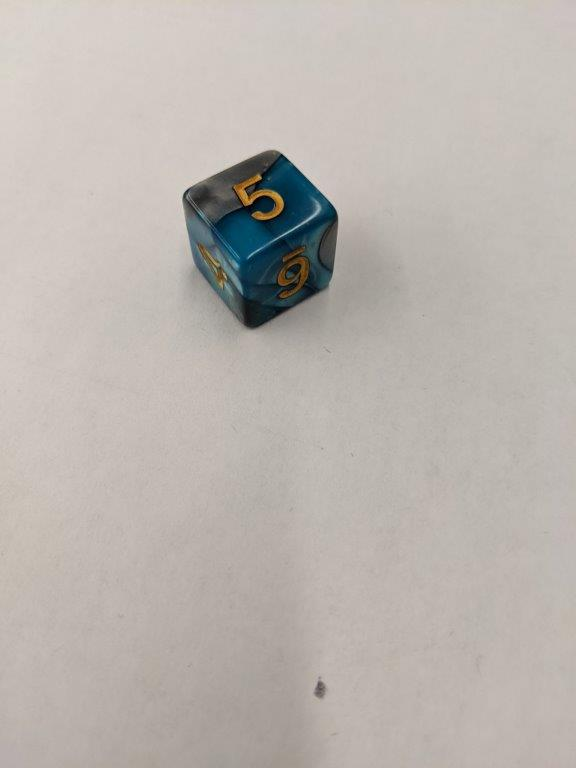d6-5: (180, 148, 341, 329)
